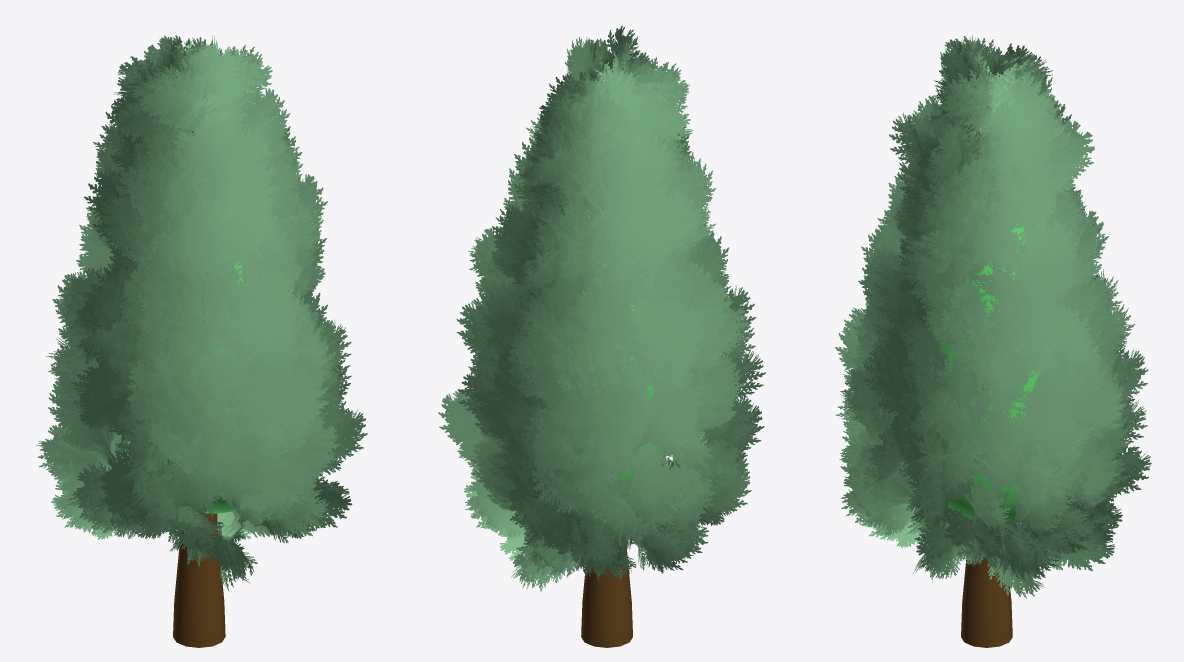
The model's file is 3D_Arbre.fbx.
The picture shows the model from 3 angles, left to right: view 1: azimuth 30°, elevation 25°; view 2: azimuth 150°, elevation 25°; view 3: azimuth 270°, elevation 25°; orthographic projection.
Visible parts, largest first — view 1: Plane.007, Cylinder, Sphere.002; view 2: Plane.007, Cylinder, Sphere.002; view 3: Plane.007, Cylinder, Sphere.002.
Part boxes in pixels (<box>): Plane.007: <box>36,35,367,590</box>; Cylinder: <box>173,131,225,647</box>; Sphere.002: <box>155,222,249,513</box>; Plane.007: <box>438,25,765,591</box>; Cylinder: <box>581,533,632,647</box>; Sphere.002: <box>541,202,666,492</box>; Plane.007: <box>835,35,1151,598</box>; Cylinder: <box>961,169,1012,647</box>; Sphere.002: <box>925,224,1043,526</box>.
Size of the model in its own units: 260 by 502 by 262.
